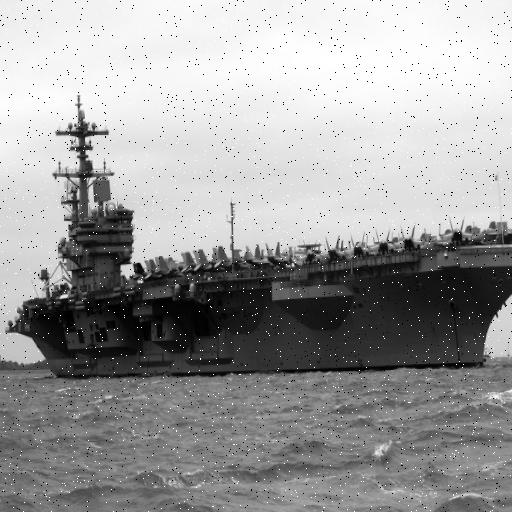Portanaves: (8, 88, 512, 371)
